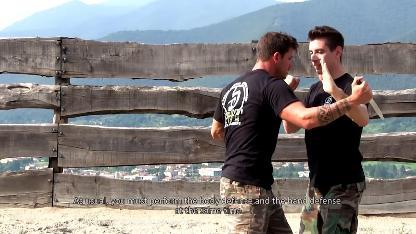knife: (350, 74, 386, 121)
